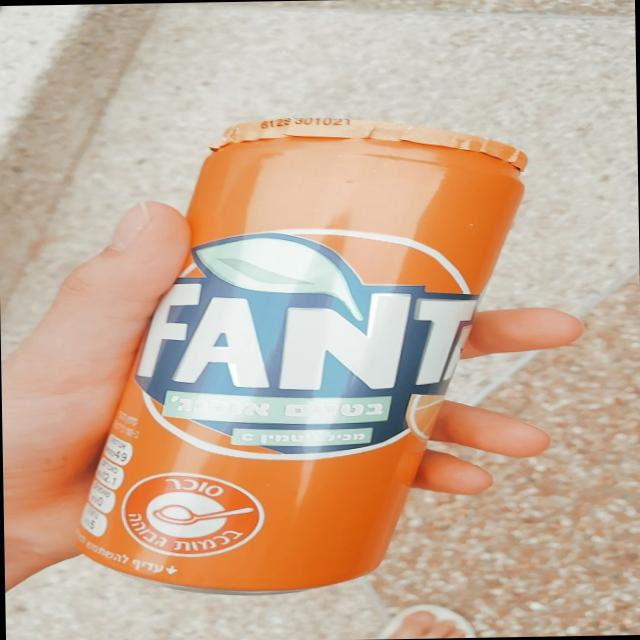fanta: (94, 108, 526, 588)
